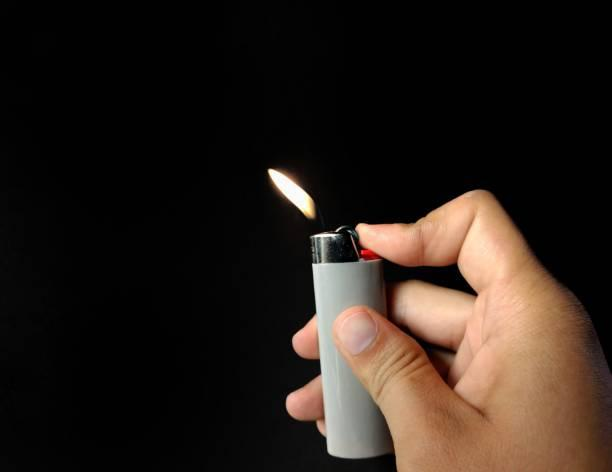Fire: (266, 161, 319, 230)
